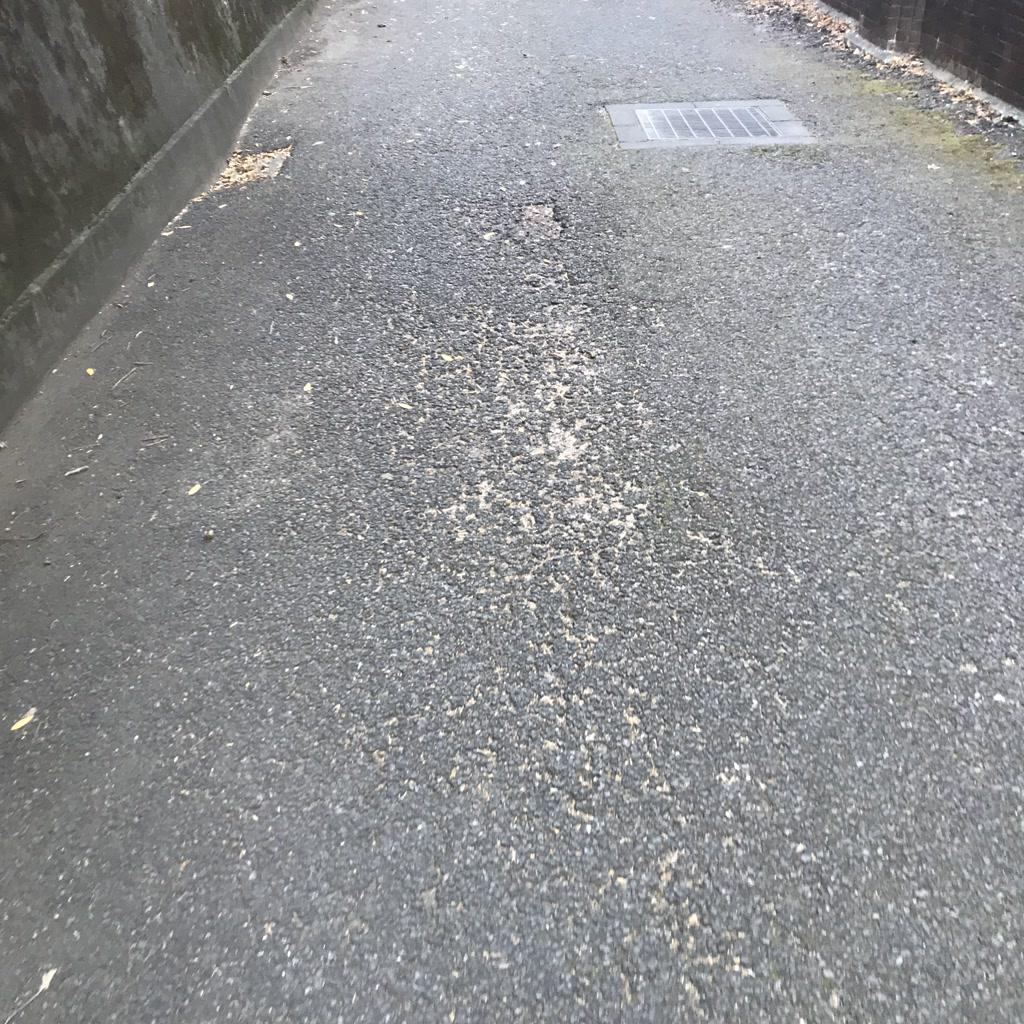D40: (506, 191, 583, 245)
